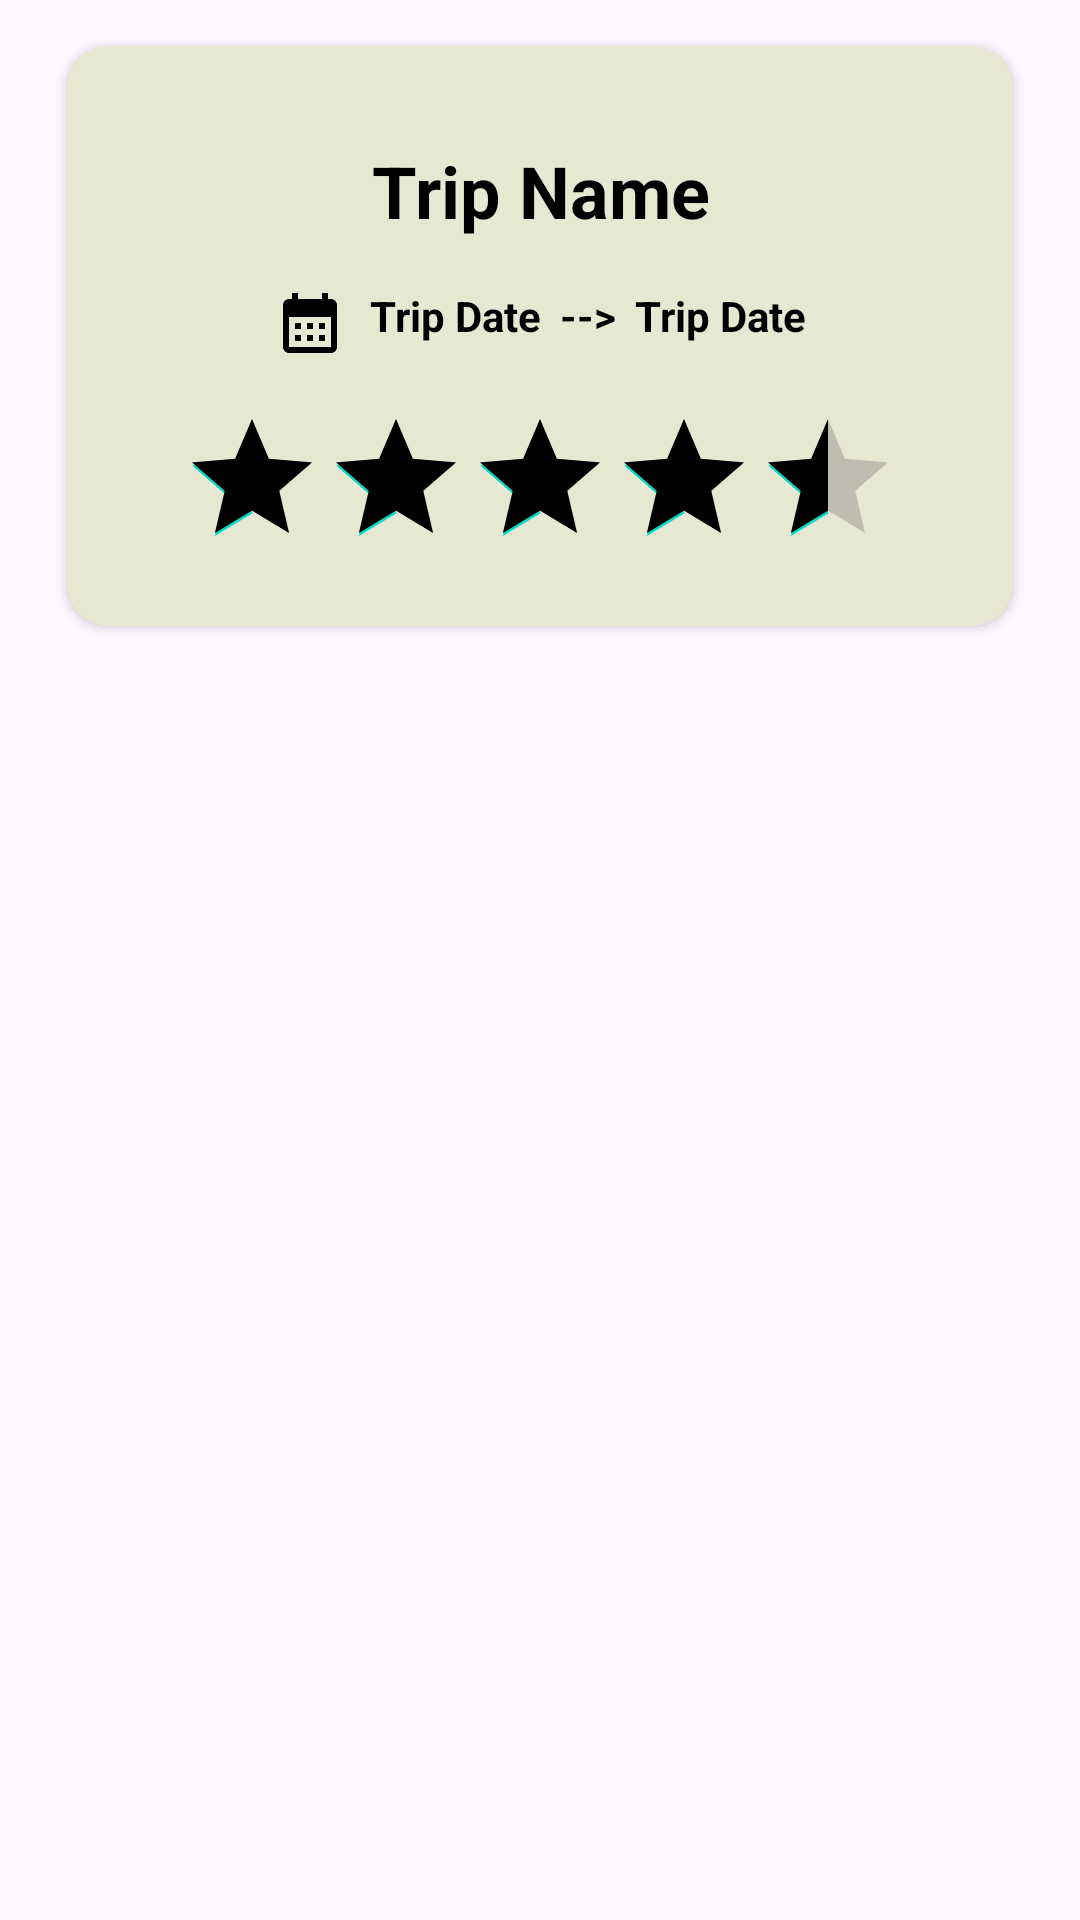

Icon bounding boxes for this 1080×1920 phone screenshot, format (x1, y1, x2, y2):
calendar month: (283, 293, 337, 353)
